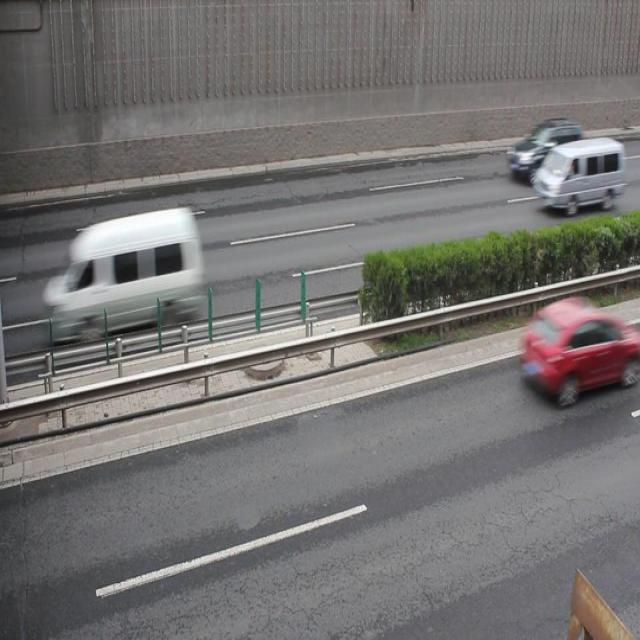car: (517, 294, 624, 404), (504, 119, 584, 181)
truck: (54, 208, 204, 338), (530, 138, 622, 212)
